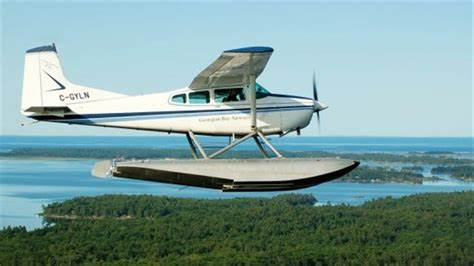Aeronef_commercial: (11, 36, 373, 206)
